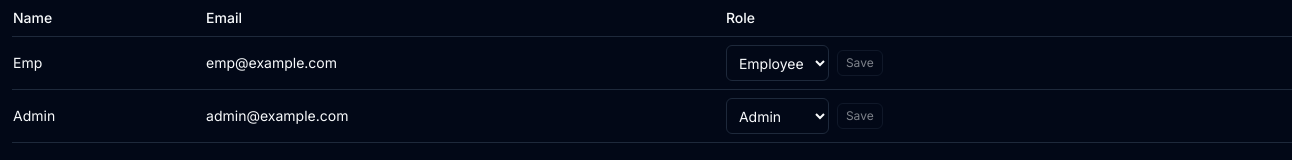
Test: UsersTable (R10) › reverts the select on action failure
This screenshot has width=1292, height=160.
Select "Admin" in the dropdown named "Role for Emp" in the row of "emp@example.com" at point(777, 63), box [726, 45, 829, 81]
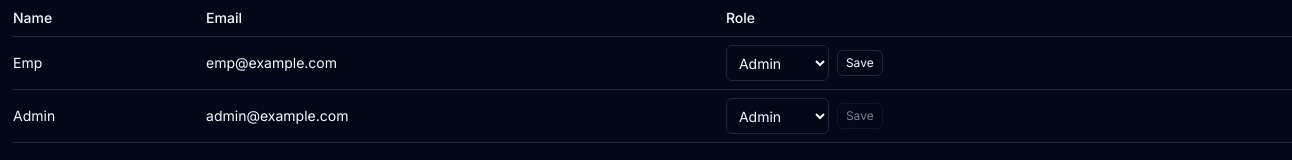
Click the button "Save" in the row of "emp@example.com" at point(860, 63), box [837, 50, 883, 76]
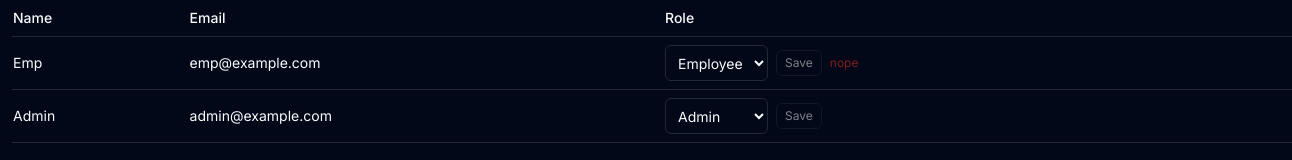
Expected: the message reads "nope", [830, 55, 858, 70]
